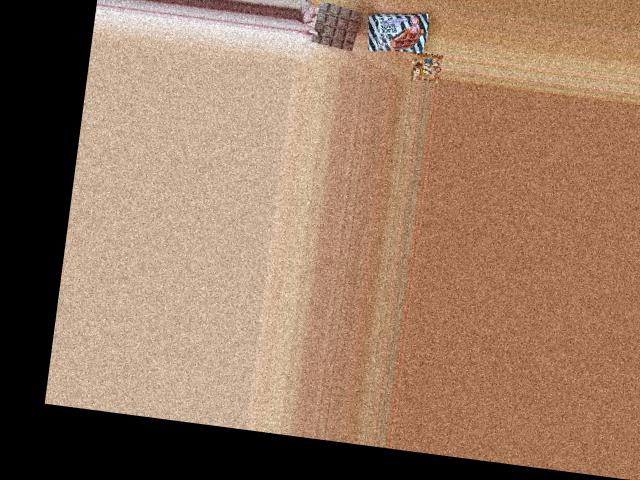chocolate: (362, 6, 432, 56)
